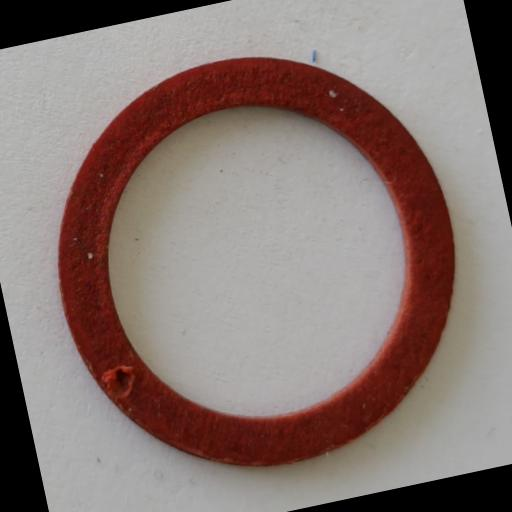defect: (100, 362, 140, 400)
